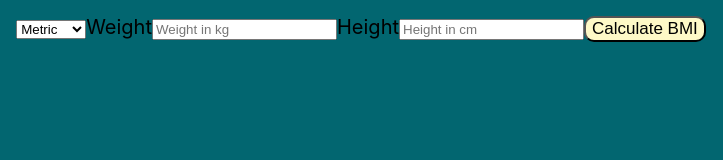
BMI Calculator › Calculates BMI in imperial
Select "Imperial" in the dropdown with id "select-method": (51, 30) [16,20,86,39]
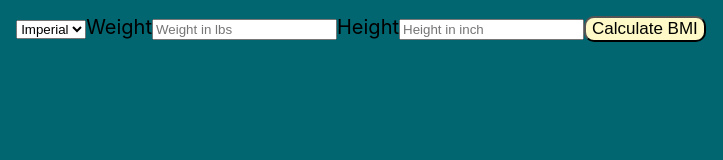
In the number field with id "weight": (245, 30) [152,19,337,40], type "198"
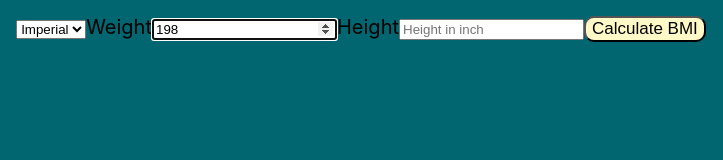
In the number field with id "height": (492, 30) [399,19,584,40], type "74"
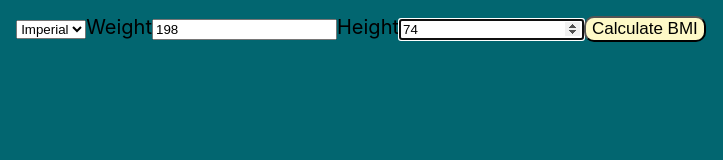
Click the button with id "calculate": (645, 29) [584,16,706,42]
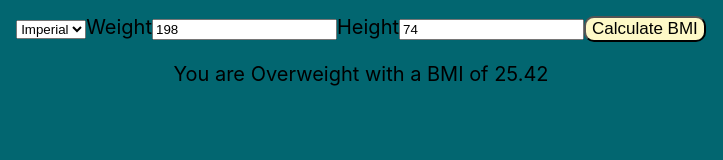
Check: the text with id "bmi-message" reads "You are Overweight with a BMI of 25.42", box [173,62,548,86]
